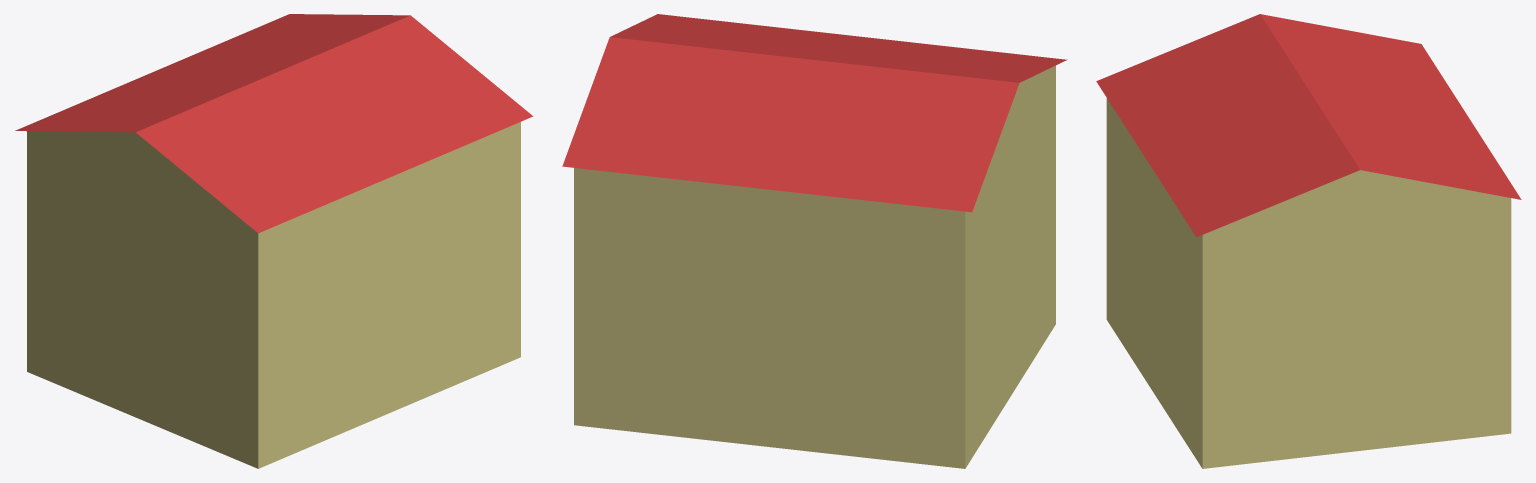
3 renders of one model, left to right at view 1: azimuth 30°, elevation 25°; view 2: azimuth 150°, elevation 25°; view 3: azimuth 270°, elevation 25°, orthographic. The views are drawn at different scales.
Size of the model in its own units: 13.25 by 12.32 by 9.09.
